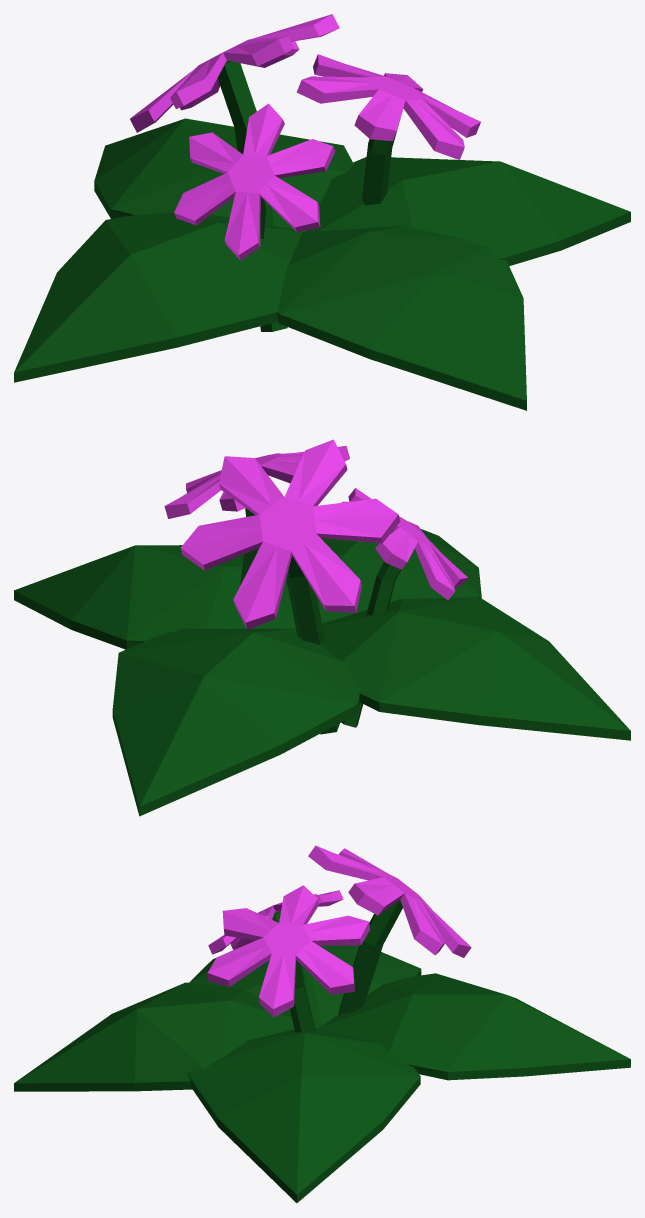
Rendered from Flower_04.obj.
The picture shows the model from 3 angles, top to bottom: view 1: azimuth 30°, elevation 25°; view 2: azimuth 150°, elevation 25°; view 3: azimuth 270°, elevation 25°; orthographic projection. The views are drawn at different scales.
Visible parts, largest first — view 1: Flower_04_Cube.052; view 2: Flower_04_Cube.052; view 3: Flower_04_Cube.052.
Boxes of the visible parts, x1=… form: Flower_04_Cube.052: x1=14, y1=14, x2=630, y2=410; Flower_04_Cube.052: x1=14, y1=439, x2=630, y2=816; Flower_04_Cube.052: x1=14, y1=845, x2=630, y2=1202.
Bounding box in the file's own units: 1.71 × 0.7766 × 1.73.
